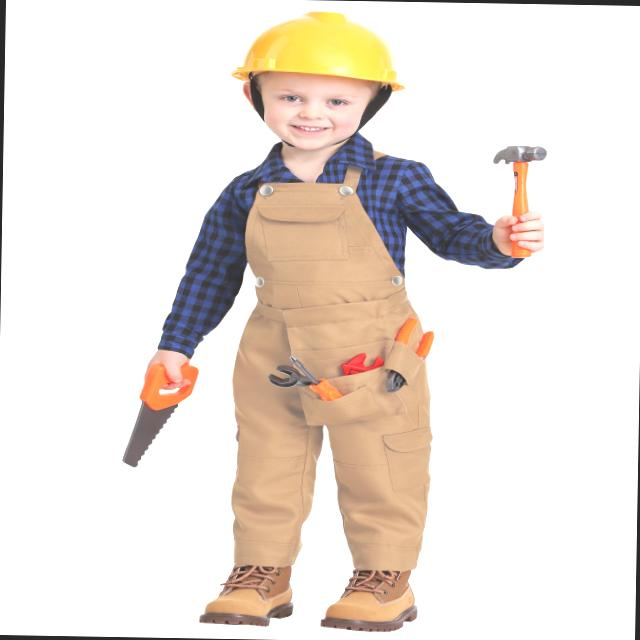helmet: (206, 3, 427, 92)
no-vest: (209, 125, 470, 512)
